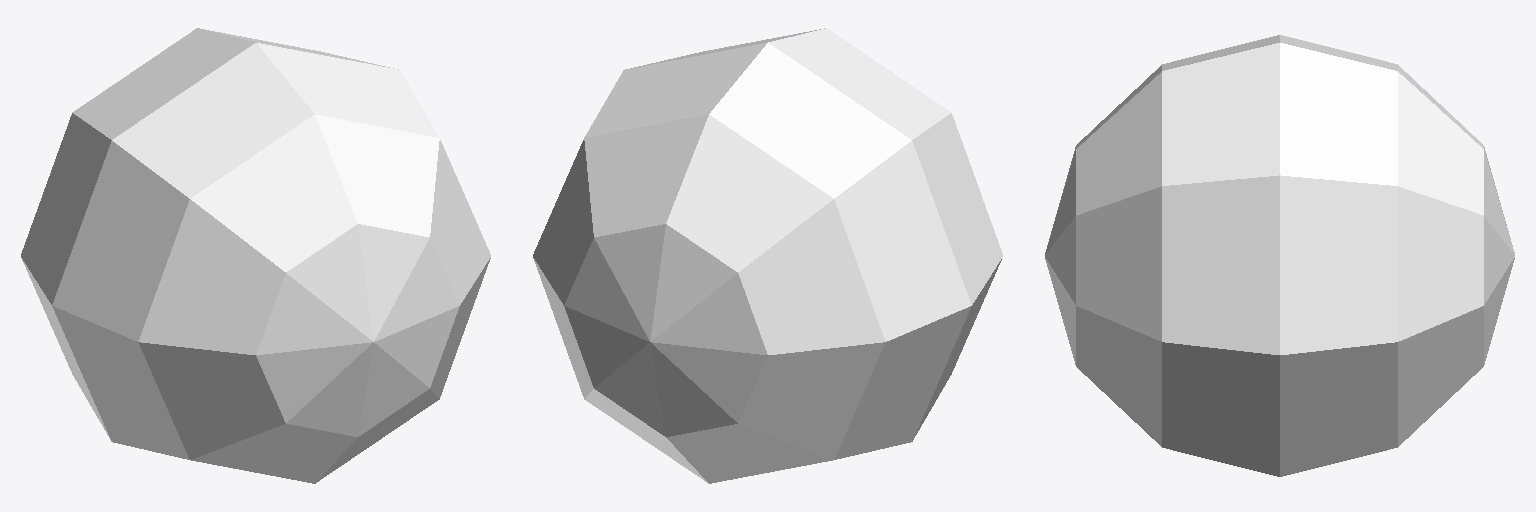
Rendered from sun.obj.
3 renders of one model, left to right at view 1: azimuth 30°, elevation 25°; view 2: azimuth 150°, elevation 25°; view 3: azimuth 270°, elevation 25°, orthographic.
Parts seen in each view (by area): view 1: sun_01_Sphere; view 2: sun_01_Sphere; view 3: sun_01_Sphere.
Part boxes in pixels (bbox=[...]): sun_01_Sphere: bbox=[21, 28, 490, 483]; sun_01_Sphere: bbox=[533, 28, 1002, 483]; sun_01_Sphere: bbox=[1045, 35, 1514, 476].
Size of the model in its own units: 10 by 10 by 10.